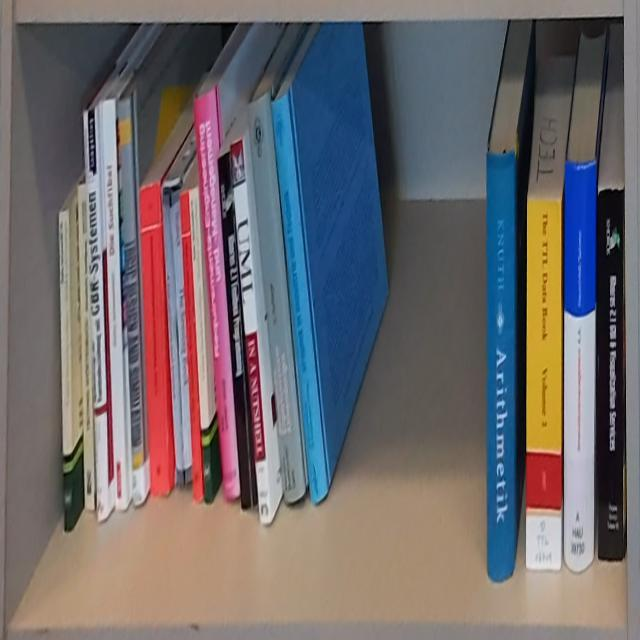Book Spine: (247, 90, 306, 504), (271, 92, 329, 504), (193, 88, 240, 500), (232, 139, 273, 525), (218, 153, 258, 510), (524, 197, 562, 571), (486, 152, 516, 582), (564, 157, 595, 571), (118, 94, 148, 506), (83, 101, 110, 520), (101, 96, 128, 510), (139, 183, 171, 493), (598, 188, 624, 561), (190, 185, 213, 501), (179, 187, 202, 499), (170, 188, 191, 482), (163, 187, 183, 485), (78, 183, 94, 512), (58, 208, 74, 533)
